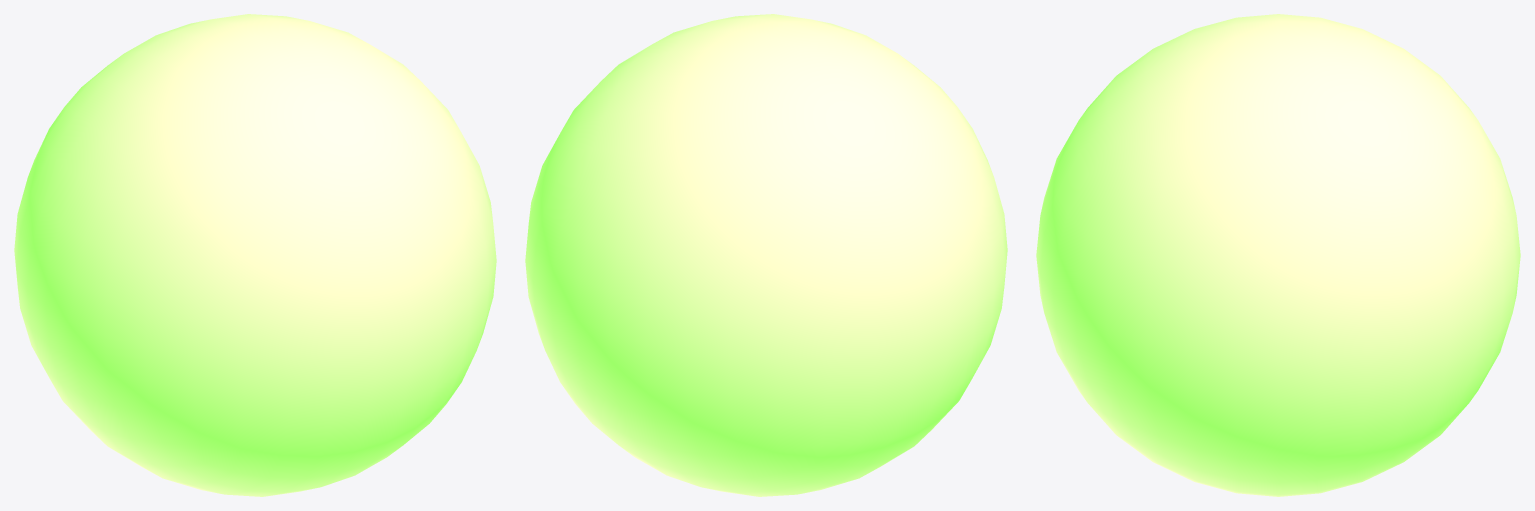
Rendered from planet_005.fbx.
3 renders of one model, left to right at view 1: azimuth 30°, elevation 25°; view 2: azimuth 150°, elevation 25°; view 3: azimuth 270°, elevation 25°, orthographic.
Parts seen in each view (by area): view 1: planet_005; view 2: planet_005; view 3: planet_005.
Part boxes in pixels (x1=…): planet_005: x1=14, y1=14, x2=496, y2=496; planet_005: x1=525, y1=14, x2=1007, y2=496; planet_005: x1=1036, y1=14, x2=1520, y2=496.
Bounding box in the file's own units: 2250 × 2250 × 2250.
